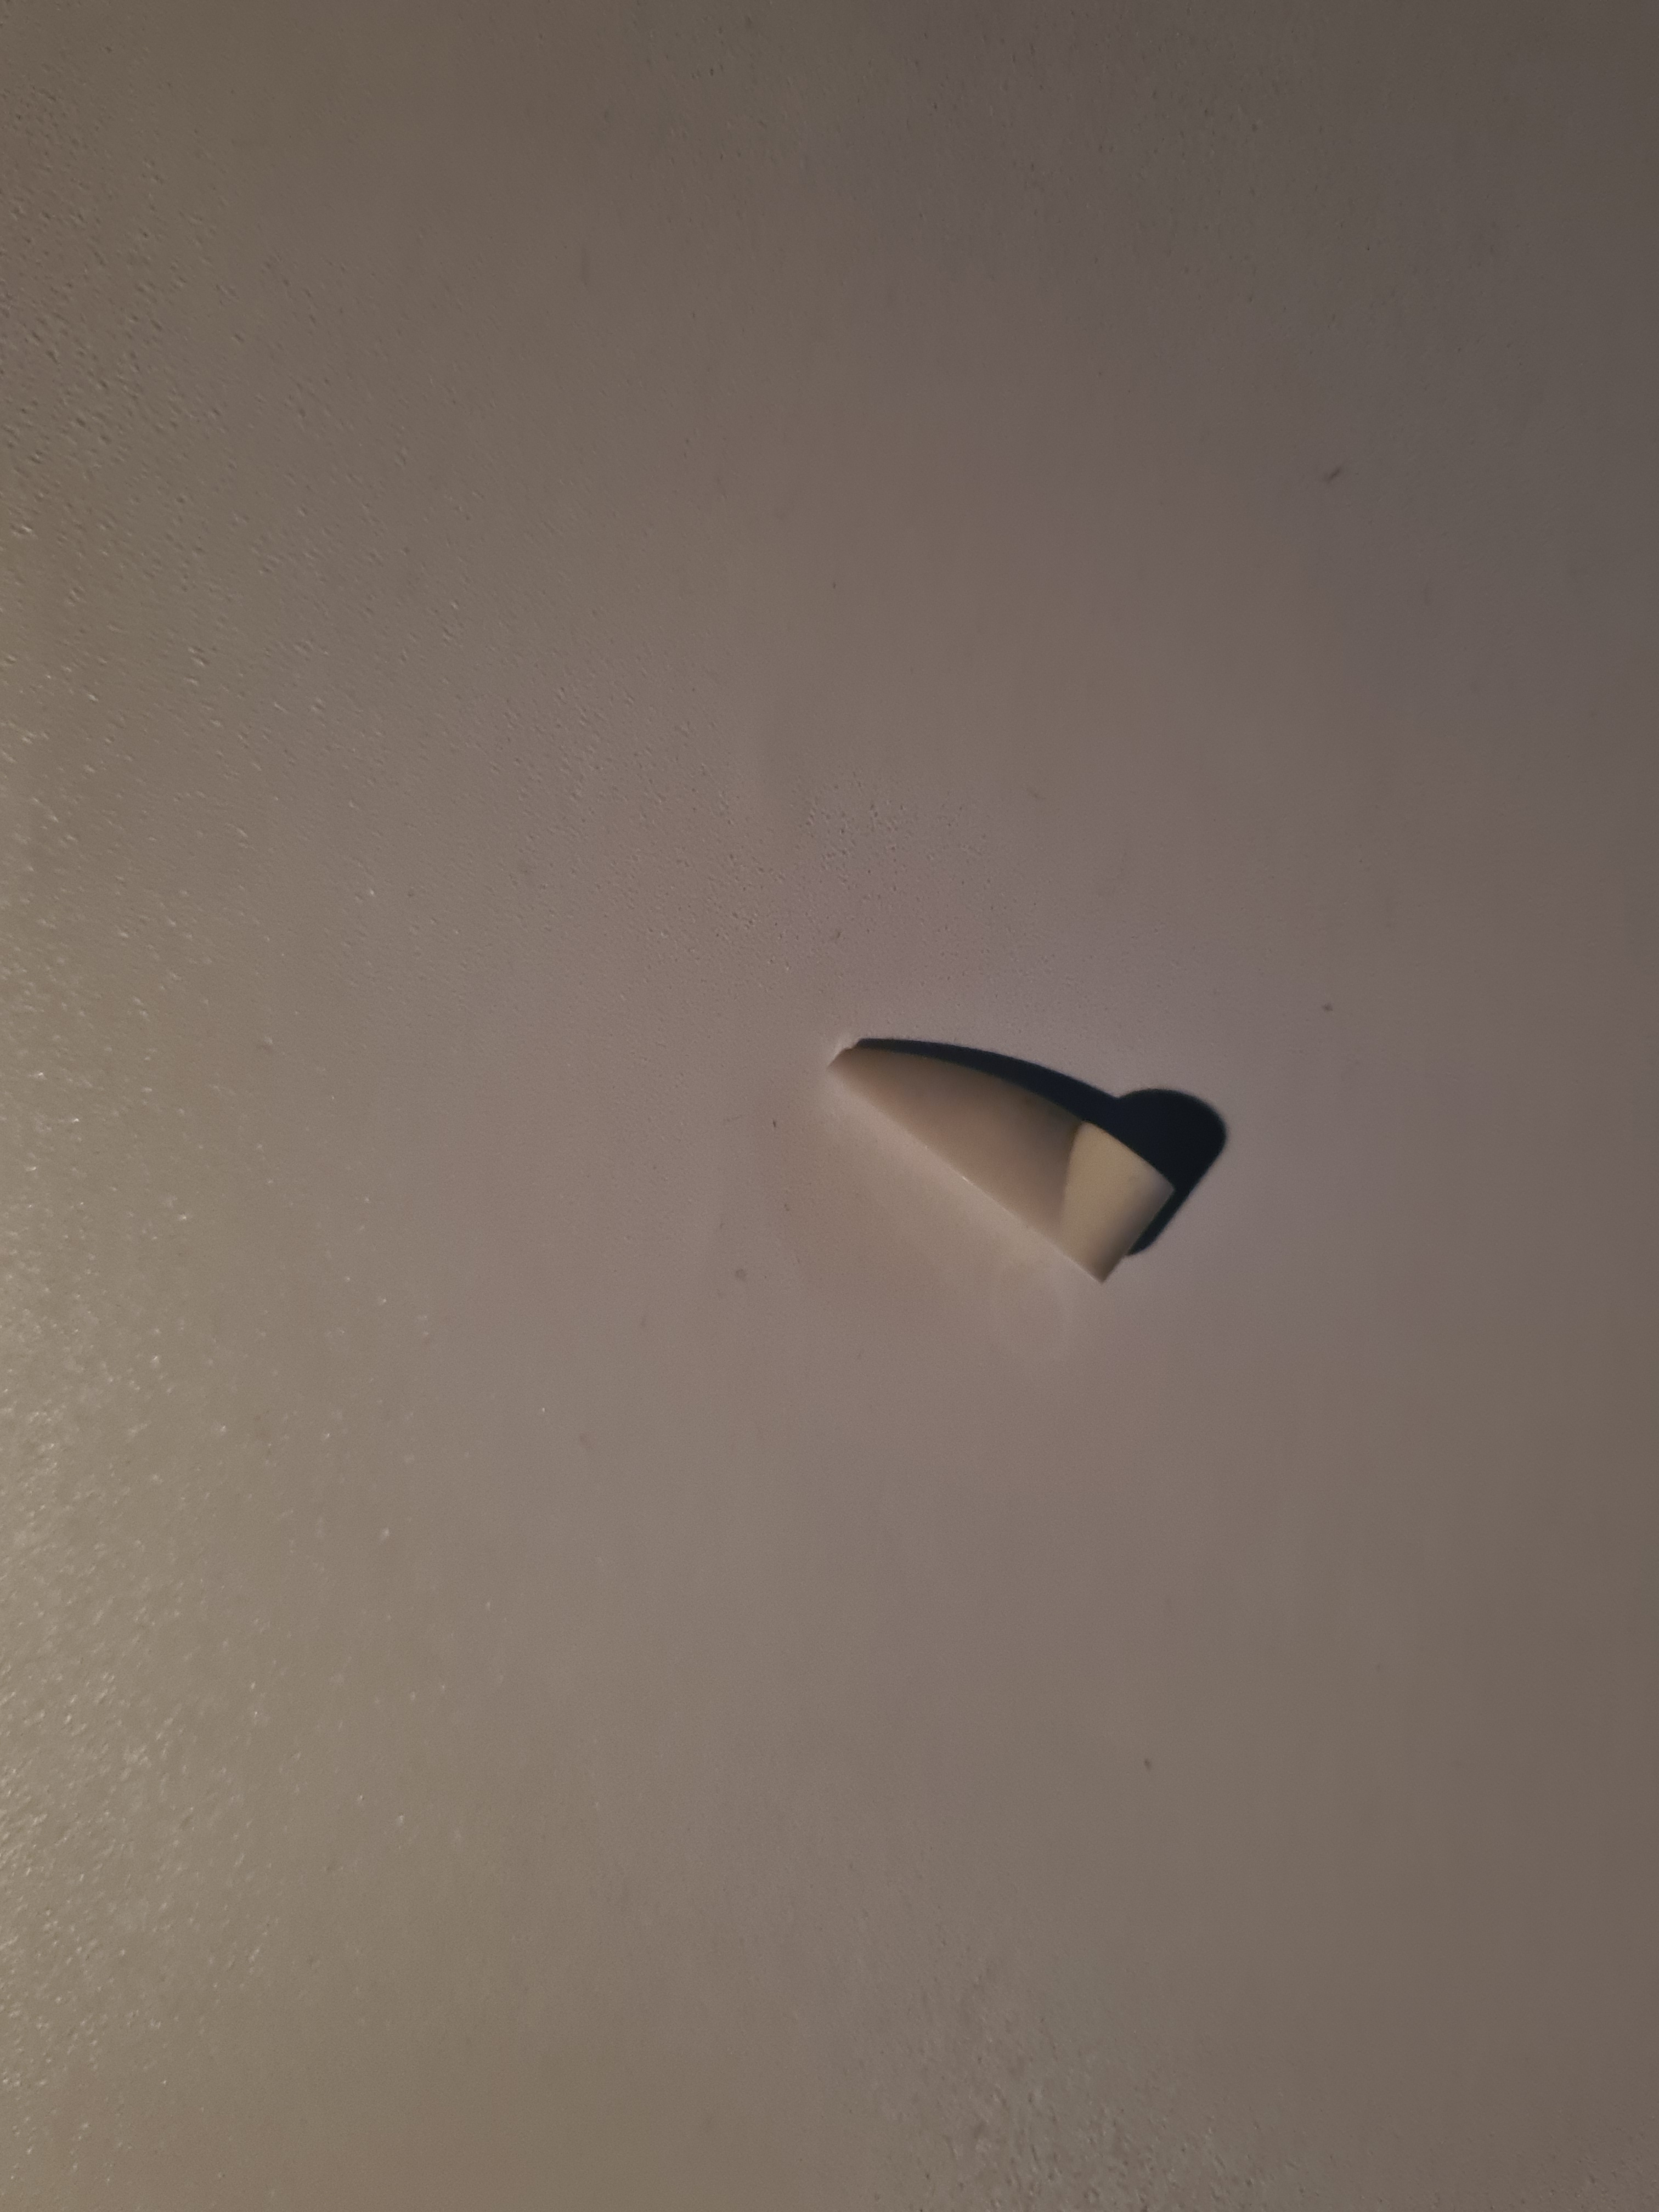Kappe: (803, 1008, 1215, 1341)
